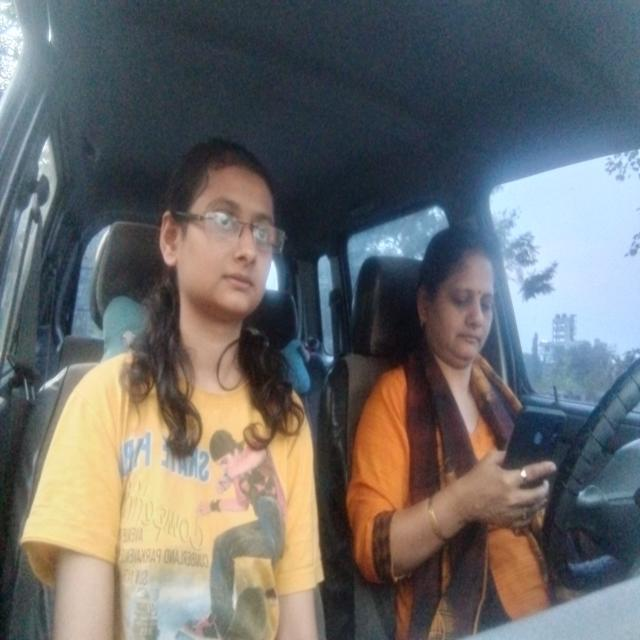mobile: (513, 402, 559, 492)
person: (162, 142, 279, 313), (430, 246, 500, 362)
